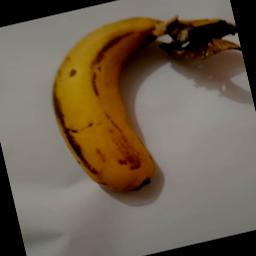Banana Unripe: (29, 0, 256, 203)
